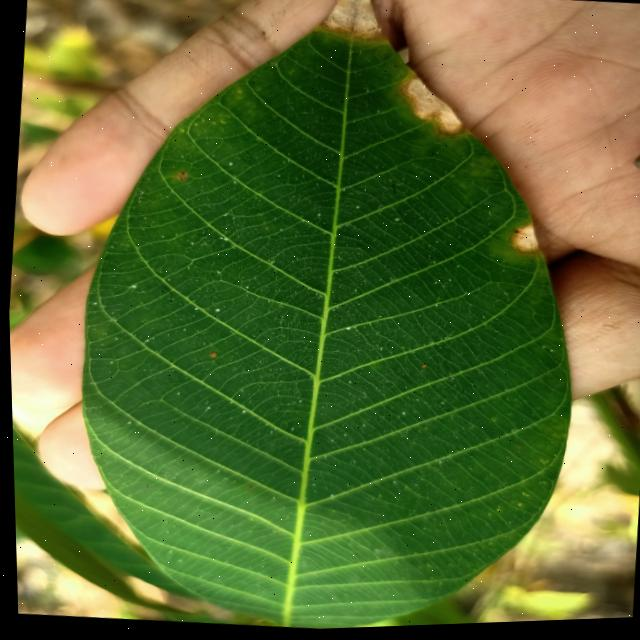Colletotrichum: (178, 178, 182, 182)
Leaf-Blight: (396, 78, 467, 143), (318, 0, 383, 45), (508, 227, 539, 257)
